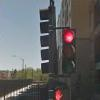Traffic light: (30, 10, 78, 79)
